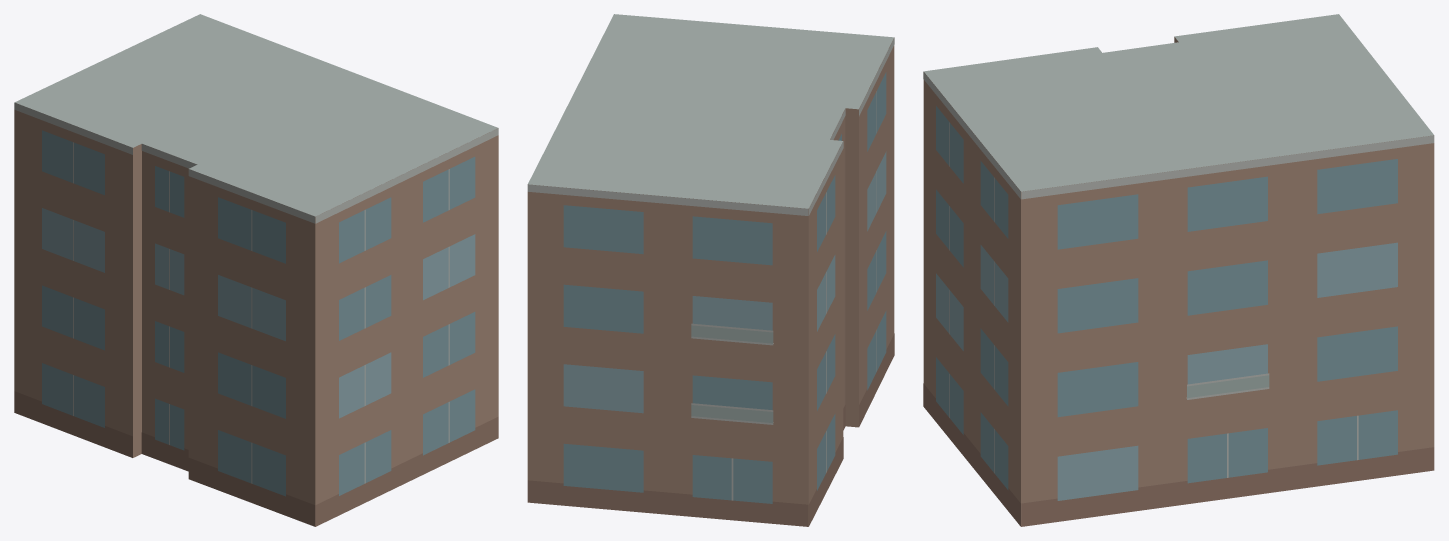
File: survey-upis-32724265.glb
3 renders of one model, left to right at view 1: azimuth 30°, elevation 25°; view 2: azimuth 150°, elevation 25°; view 3: azimuth 270°, elevation 25°, orthographic. The views are drawn at different scales.
Visible parts, largest first — view 1: survey-upis-32724265.tmp; view 2: survey-upis-32724265.tmp; view 3: survey-upis-32724265.tmp.
Part boxes in pixels (x1,y1,x2,y2): survey-upis-32724265.tmp: [14, 14, 498, 526]; survey-upis-32724265.tmp: [527, 14, 894, 526]; survey-upis-32724265.tmp: [923, 14, 1434, 526].
Bounding box in the file's own units: 11.95 × 10.5 × 14.51.
